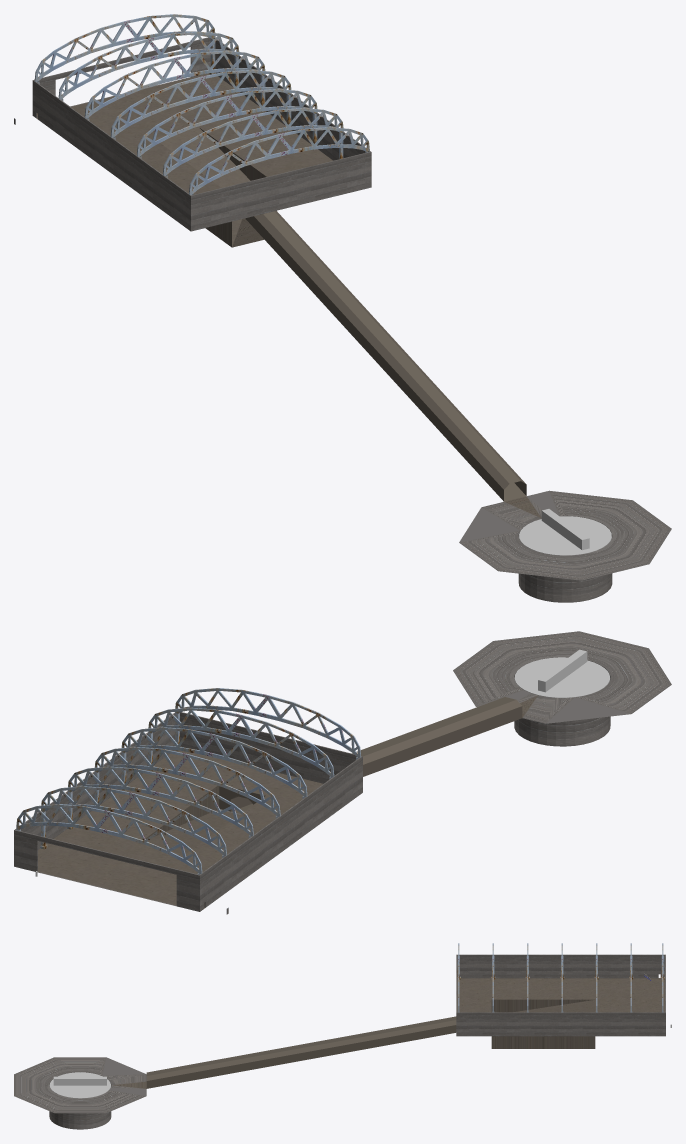
Rendered from hangar.obj.
The picture shows the model from 3 angles, top to bottom: view 1: azimuth 30°, elevation 25°; view 2: azimuth 150°, elevation 25°; view 3: azimuth 270°, elevation 25°; orthographic projection. The views are drawn at different scales.
Parts seen in each view (by area): view 1: hangar_structure_Plane, roof_supports_Cube.010, Cylinder.003, floor_lift_Plane.006; view 2: hangar_structure_Plane, roof_supports_Cube.010, Cylinder.003, floor_lift_Plane.006, boxcar_Cube.001; view 3: hangar_structure_Plane, roof_supports_Cube.010, Cylinder.003, floor_lift_Plane.006, boxcar_Cube.001.
Part boxes in pixels (<box>): hangar_structure_Plane: <box>32,37,671,602</box>; roof_supports_Cube.010: <box>34,14,369,195</box>; Cylinder.003: <box>519,516,611,555</box>; floor_lift_Plane.006: <box>155,127,250,187</box>; hangar_structure_Plane: <box>14,631,671,911</box>; roof_supports_Cube.010: <box>16,688,360,874</box>; Cylinder.003: <box>514,657,609,697</box>; floor_lift_Plane.006: <box>139,810,239,853</box>; boxcar_Cube.001: <box>538,649,587,692</box>; hangar_structure_Plane: <box>14,954,665,1129</box>; roof_supports_Cube.010: <box>457,943,664,1012</box>; Cylinder.003: <box>49,1072,110,1098</box>; floor_lift_Plane.006: <box>514,1000,595,1012</box>; boxcar_Cube.001: <box>53,1076,106,1085</box>.
Bounding box in the file's own units: 89.97 × 101 × 382.
